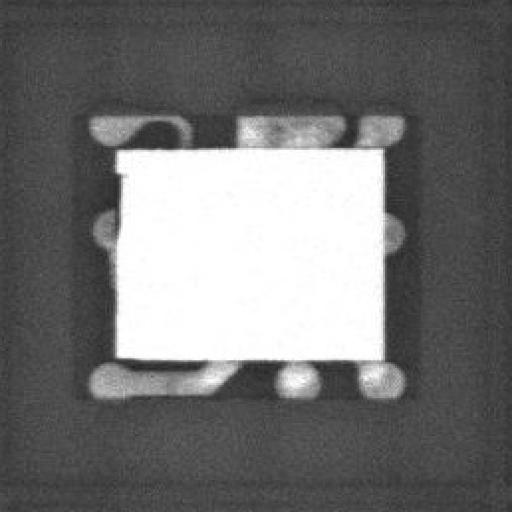DIE_BROKEN: (111, 163, 125, 243)
